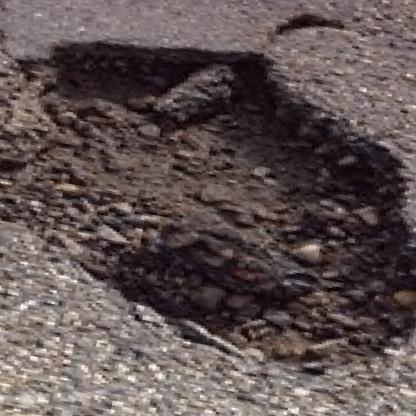pothole: (0, 4, 416, 399)
